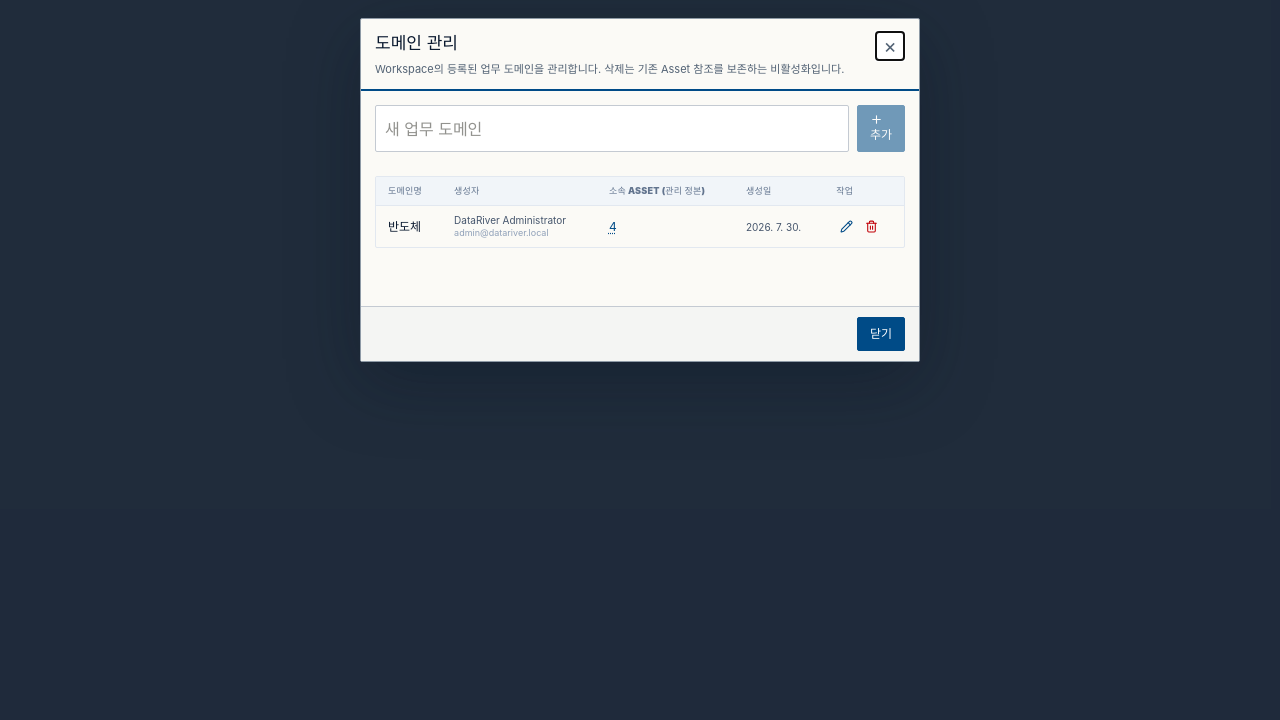
Scenario: DomainManagementDialog › drills into the server-filtered KG_READ asset page and preserves the domain cursor
Click the button named "반도체 도메인의 조회 가능 Asset 보기" at (613, 227), box [609, 219, 617, 235]
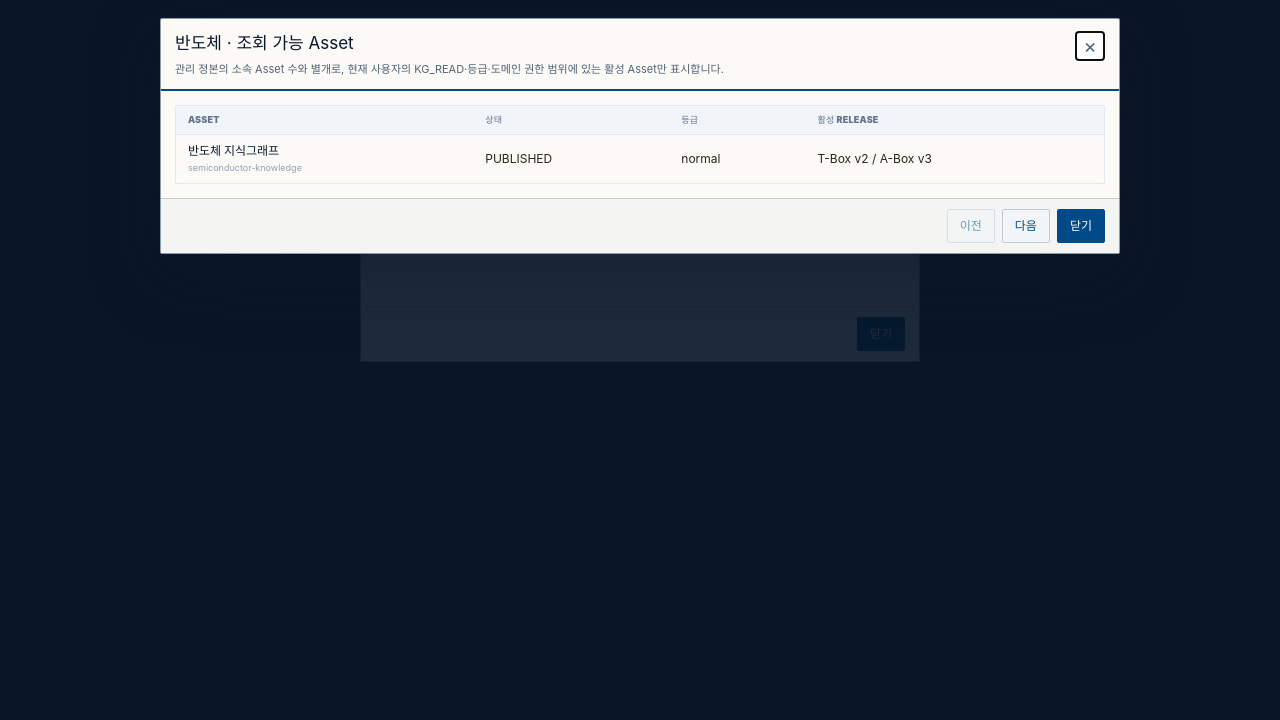
expect the text "반도체 지식그래프" is shown: met, box [188, 143, 279, 158]
expect the text "T-Box v2 / A-Box v3" is shown: met, box [806, 134, 1104, 183]
expect the text "관리 정본의 소속 Asset 수와 별개로" is shown: met, box [175, 62, 724, 76]
Click the button "다음" at (1026, 226), box [1002, 209, 1050, 243]
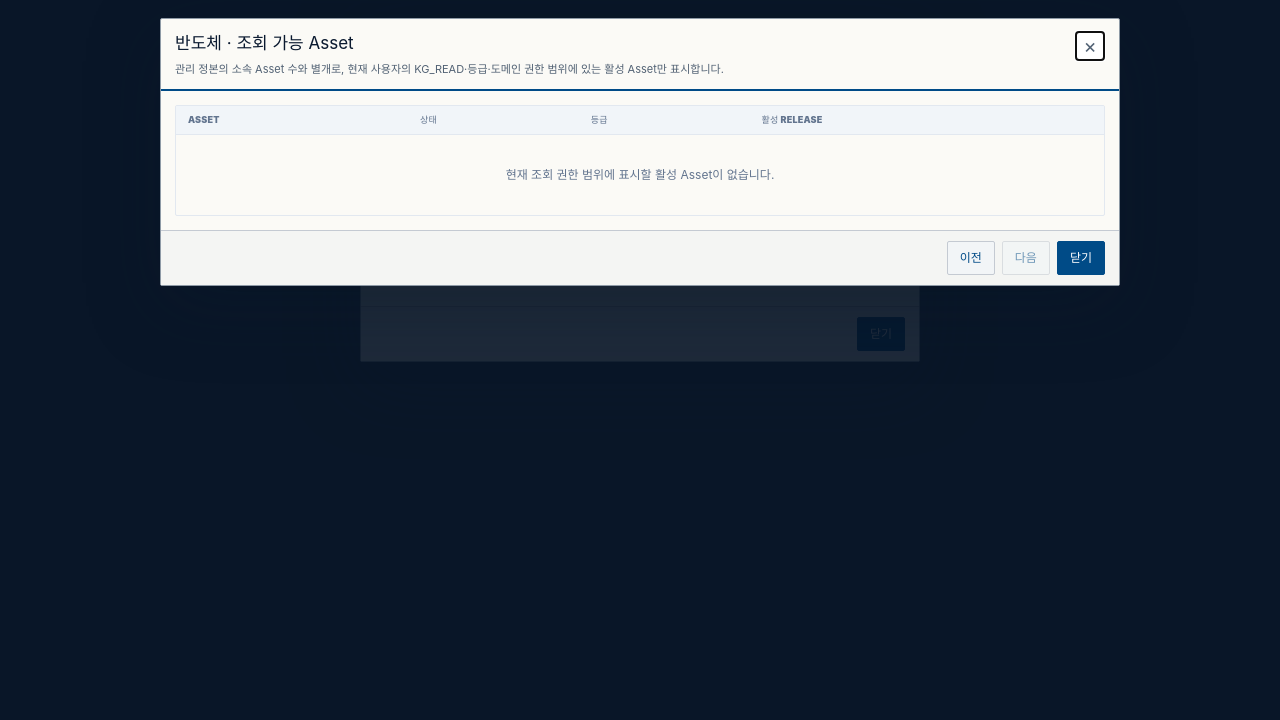
expect the text "현재 조회 권한 범위에 표시할 활성 Asset이 없습니다." is shown: met, box [176, 134, 1104, 215]
